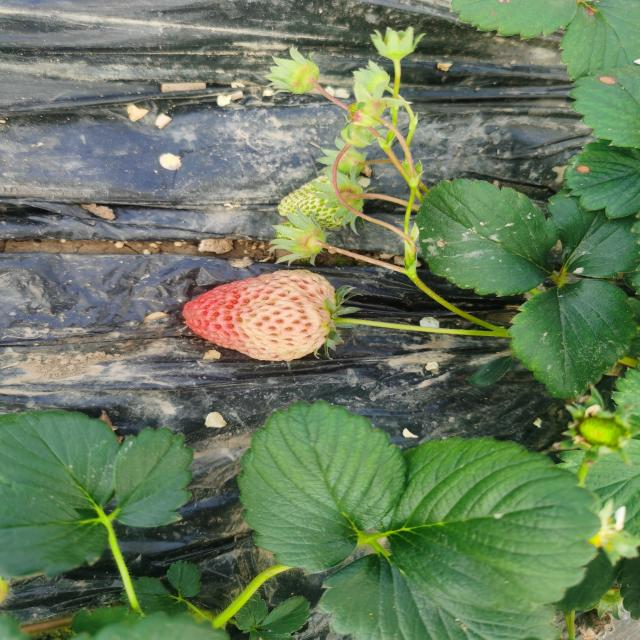stem: (332, 317, 413, 330)
strawberry: (181, 269, 337, 361)
